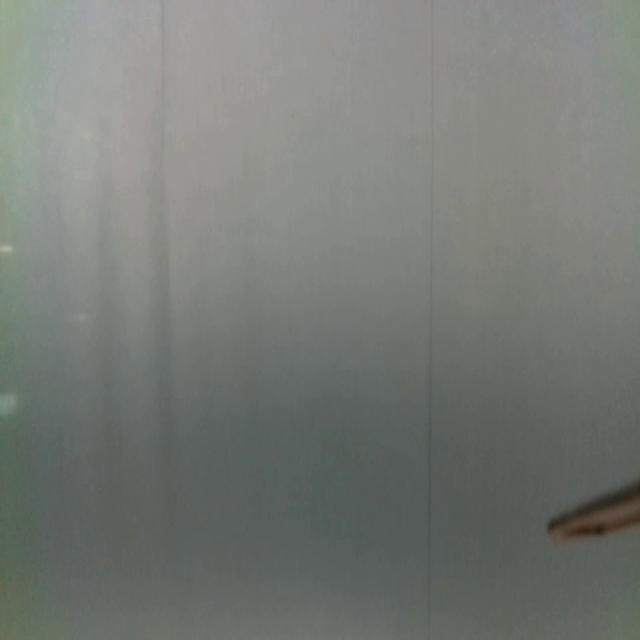crease: (424, 0, 436, 640), (157, 0, 169, 156)
